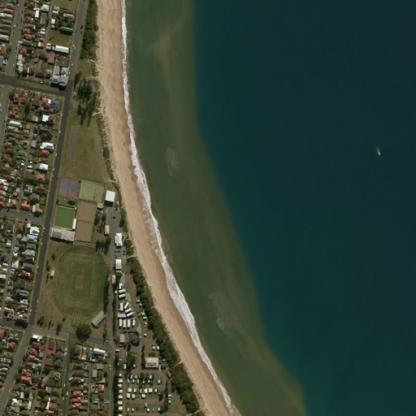ship: (371, 139, 385, 159)
